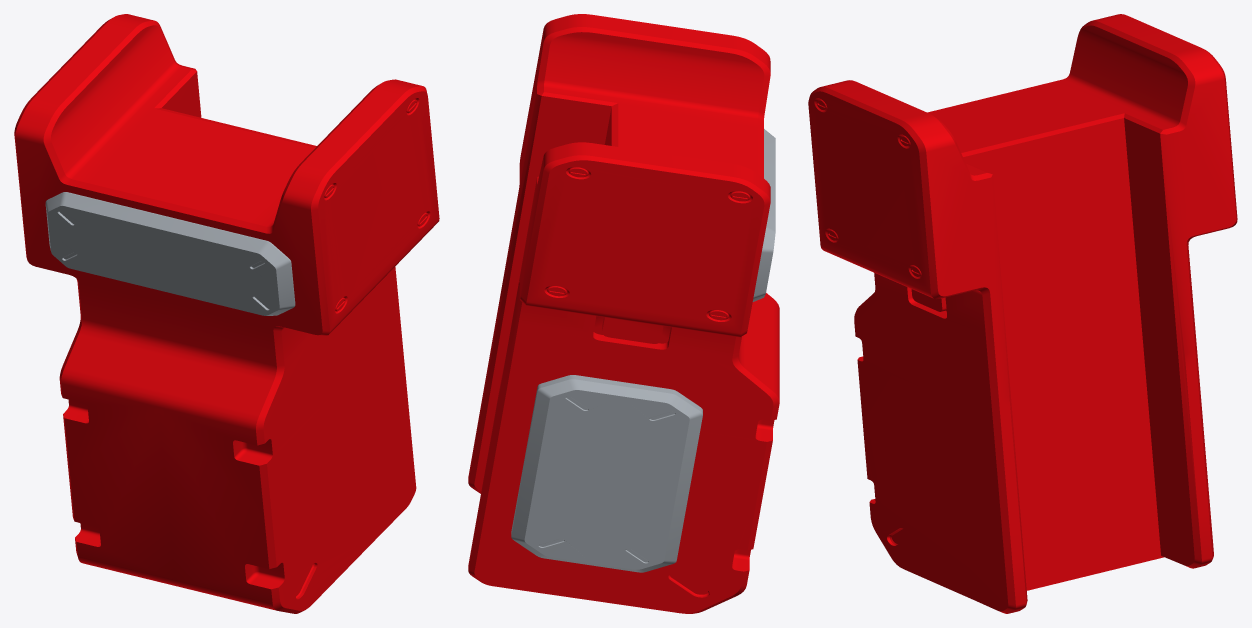
Rendered from marks_red.fbx.
3 renders of one model, left to right at view 1: azimuth 30°, elevation 25°; view 2: azimuth 150°, elevation 25°; view 3: azimuth 270°, elevation 25°, orthographic. The views are drawn at different scales.
Parts seen in each view (by area): view 1: marks_red; view 2: marks_red; view 3: marks_red.
Part boxes in pixels (x1=…): marks_red: x1=14, y1=14, x2=439, y2=613; marks_red: x1=468, y1=14, x2=779, y2=613; marks_red: x1=808, y1=14, x2=1237, y2=613.
Bounding box in the file's own units: 27.13 × 36.11 × 28.22.
